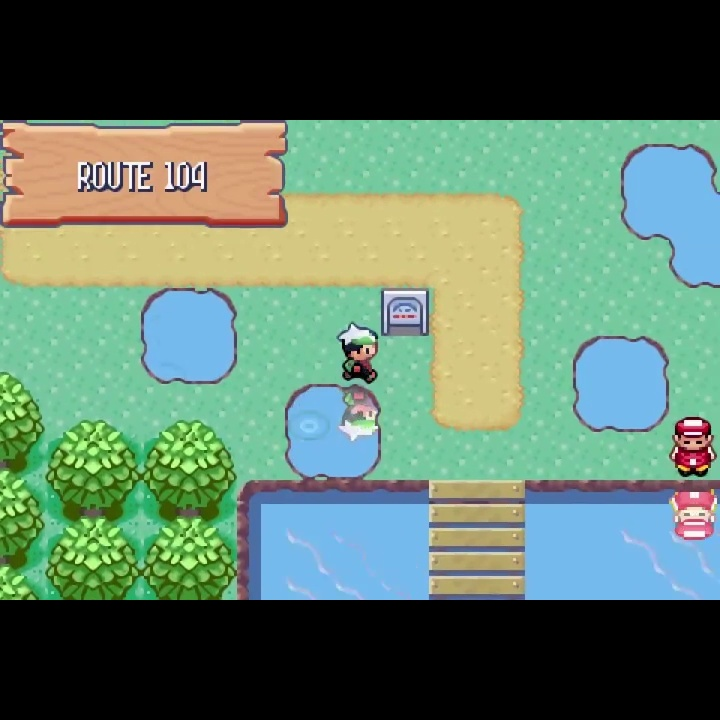npc: (669, 414, 719, 481), (335, 319, 383, 386)
wall: (141, 420, 238, 521), (44, 419, 141, 518), (45, 517, 142, 600), (142, 518, 237, 600), (1, 369, 45, 468), (1, 466, 45, 563), (1, 562, 44, 600)
